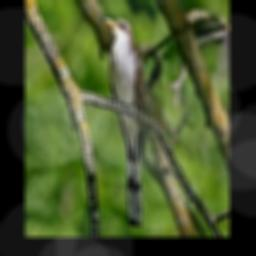Cuckoo: (104, 18, 147, 227)
